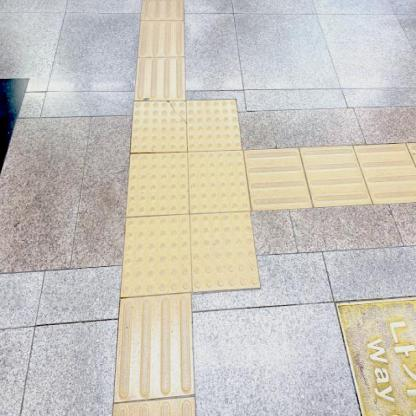podotacti: (104, 64, 274, 325), (256, 145, 416, 213), (113, 296, 194, 415), (134, 0, 186, 98)
